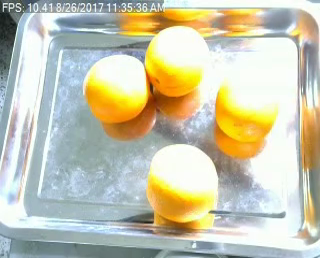Orange: (144, 143, 218, 221), (145, 25, 209, 97), (83, 53, 150, 121), (215, 77, 280, 141)
